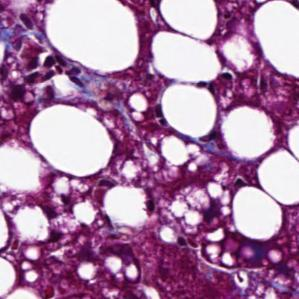inflammation: (24, 53, 57, 86), (42, 192, 73, 218), (200, 197, 227, 226), (216, 65, 237, 88)
